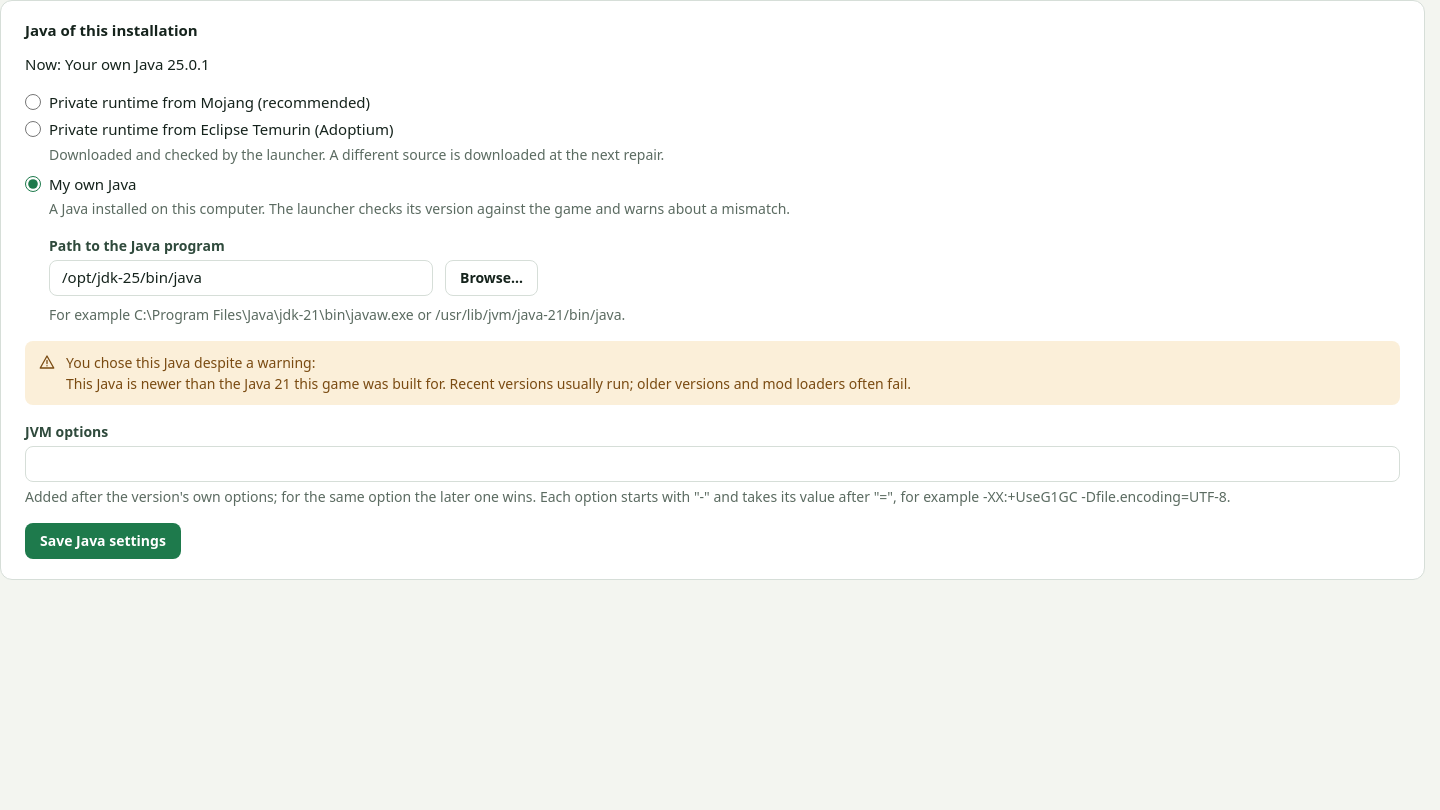
InstanceJavaForm › shows the chosen Java and its accepted warning
The width and height of the screenshot is (1440, 810).
Expected: the text "Now: Your own Java 25.0.1" is shown, [25,54,210,74]
Expected: the radio button labelled "My own Java" is checked, [25,176,41,192]
// Another path is not the Java whose warning was accepted.
Replace the text in the field labelled "Path to the Java program" with "/opt/jdk-21/bin/java": (241, 278) [49,260,433,296]
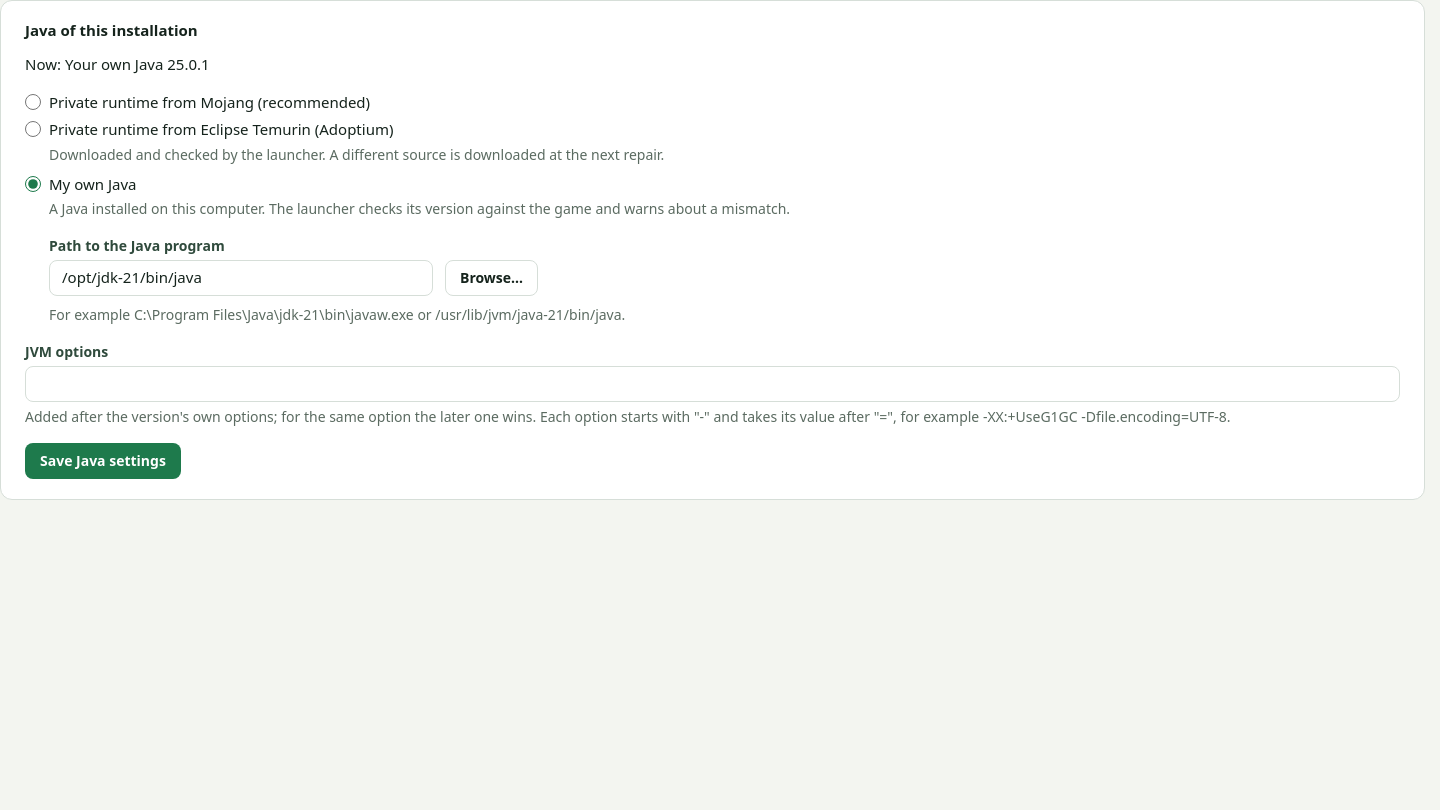
Expected: the text "newer than the Java 21" is gone
